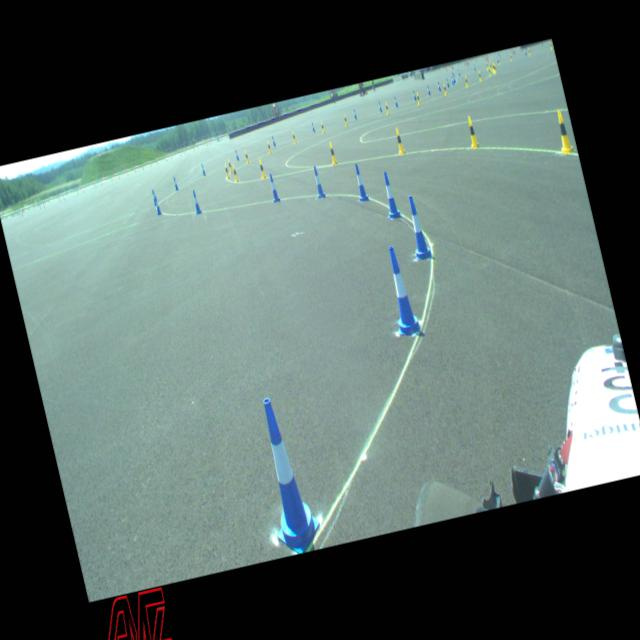blue_cone: (247, 392, 324, 557), (380, 243, 422, 338), (402, 193, 432, 260), (379, 169, 401, 218), (352, 162, 368, 202), (310, 165, 326, 198), (267, 172, 280, 202), (190, 189, 202, 214), (154, 194, 162, 214), (172, 176, 179, 190), (150, 189, 156, 205), (200, 163, 206, 175), (234, 149, 239, 160), (393, 95, 398, 106), (271, 135, 276, 146), (352, 108, 357, 119), (426, 84, 431, 94), (378, 100, 382, 111), (412, 89, 416, 100), (310, 121, 314, 131), (437, 81, 441, 91), (445, 77, 449, 86), (450, 75, 454, 84), (452, 73, 456, 82), (472, 63, 476, 70), (457, 68, 460, 75), (524, 48, 526, 55), (496, 56, 498, 62), (451, 72, 453, 76)
yellow_cone: (552, 109, 576, 154), (464, 115, 480, 149), (393, 126, 405, 154), (328, 140, 338, 164), (230, 162, 240, 182), (258, 158, 266, 178), (226, 158, 234, 173), (223, 162, 230, 178), (244, 150, 250, 163), (442, 83, 448, 95), (267, 140, 272, 154), (342, 114, 348, 125), (291, 131, 296, 143), (320, 121, 325, 133), (384, 102, 389, 114), (416, 92, 420, 105), (478, 70, 482, 82), (464, 75, 468, 86), (488, 66, 492, 76), (548, 41, 552, 49), (492, 62, 495, 72), (493, 63, 496, 72), (509, 52, 512, 61), (497, 56, 500, 64), (491, 63, 494, 70), (528, 46, 530, 56), (486, 60, 488, 70), (490, 62, 492, 70), (490, 60, 492, 67)
